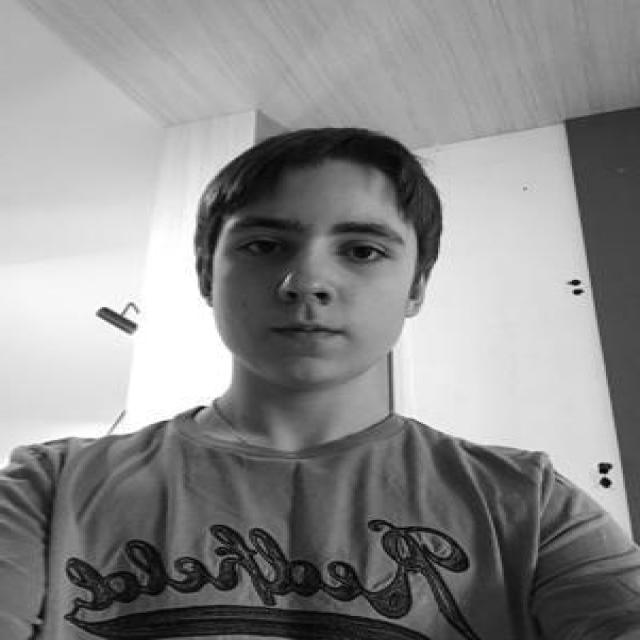face_nomask: (212, 205, 414, 390)
head_nohelmet: (214, 126, 432, 206)
person: (16, 129, 634, 640)
